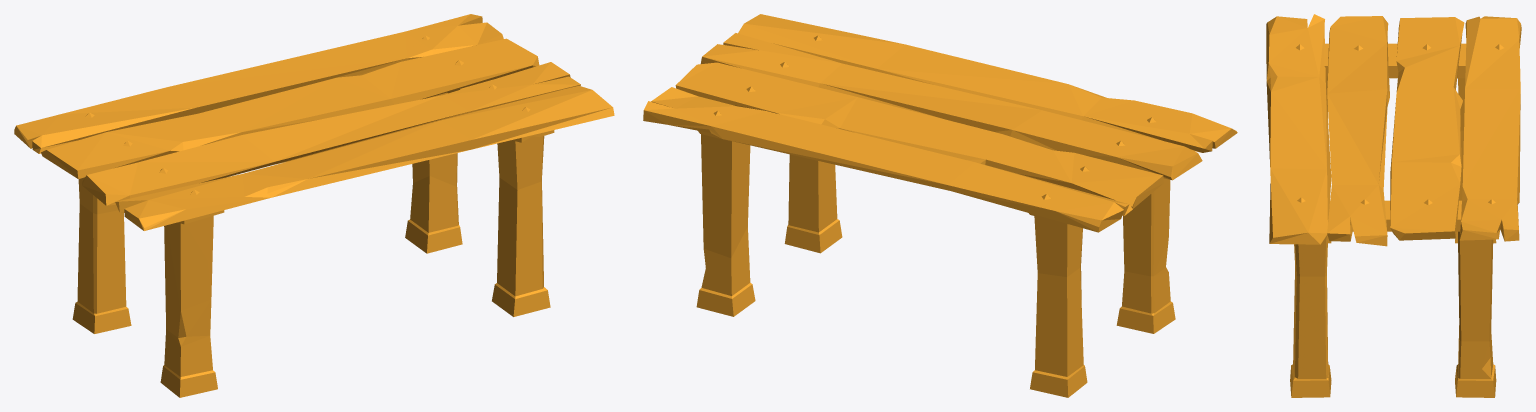
File: SM_Table_Simple_A_Fantasy.fbx
The picture shows the model from 3 angles, left to right: view 1: azimuth 30°, elevation 25°; view 2: azimuth 150°, elevation 25°; view 3: azimuth 270°, elevation 25°; orthographic projection. The views are drawn at different scales.
Visible parts, largest first — view 1: table-simple-a-fantasy; view 2: table-simple-a-fantasy; view 3: table-simple-a-fantasy.
Boxes of the visible parts, x1,y1,x2,y2 form: table-simple-a-fantasy: (14,14,614,397); table-simple-a-fantasy: (643,14,1237,397); table-simple-a-fantasy: (1266,14,1521,397).
Bounding box in the file's own units: 2 × 0.8099 × 0.9783.
